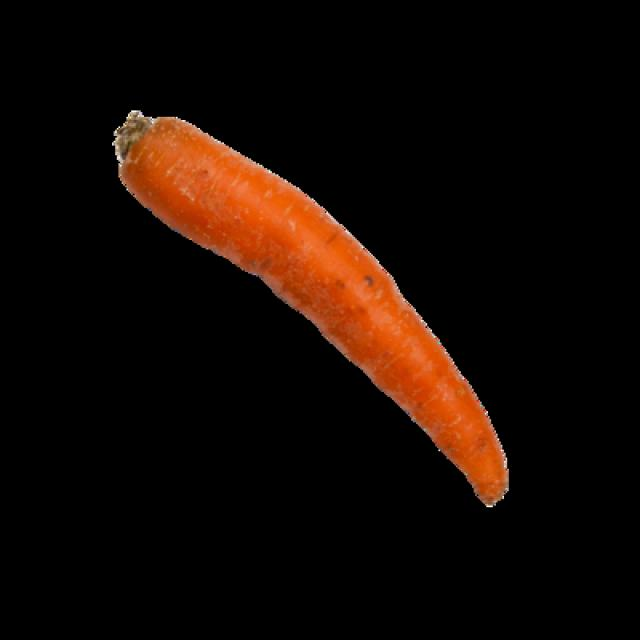Carrot: (111, 115, 509, 509)
